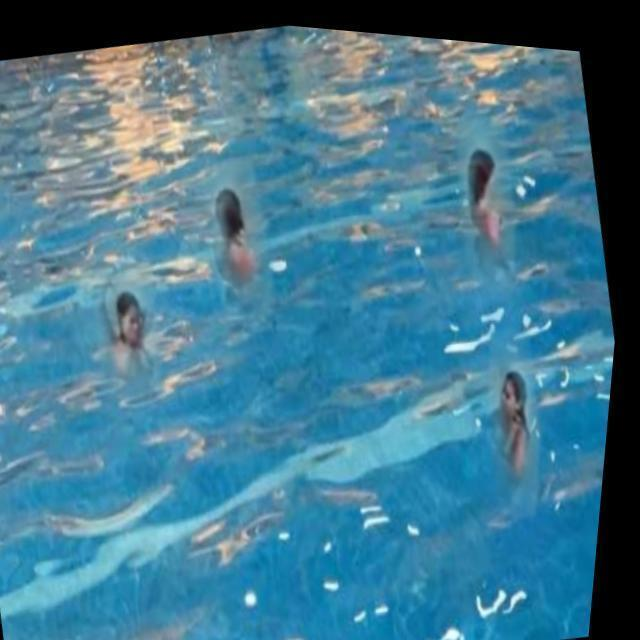swimming: (197, 178, 280, 293), (448, 143, 518, 271), (93, 286, 164, 395), (487, 368, 539, 489)
